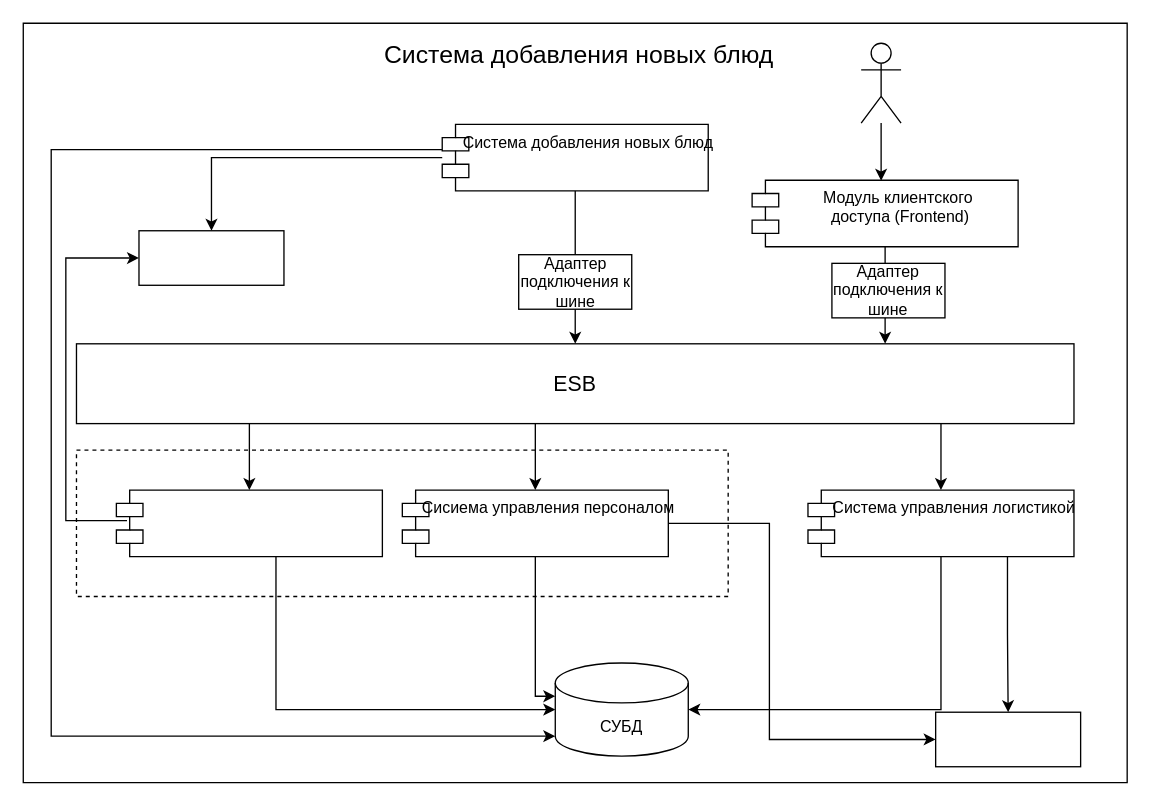
This 1150x806 diagram has some shape labels left out. Each missing label, with the centre of its shape:
"Сервер приложений" belongs at (1007,739).
"Система управления складом" belongs at (248,523).
"Среда контейнеризации K8S" belongs at (211,257).
"Технолог" belongs at (880,82).
